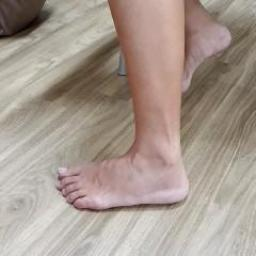Lateral View -Left Foot-: (37, 121, 210, 226)
